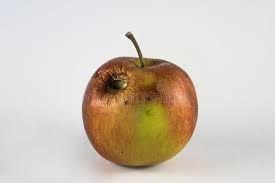Apple: (82, 58, 198, 166)
